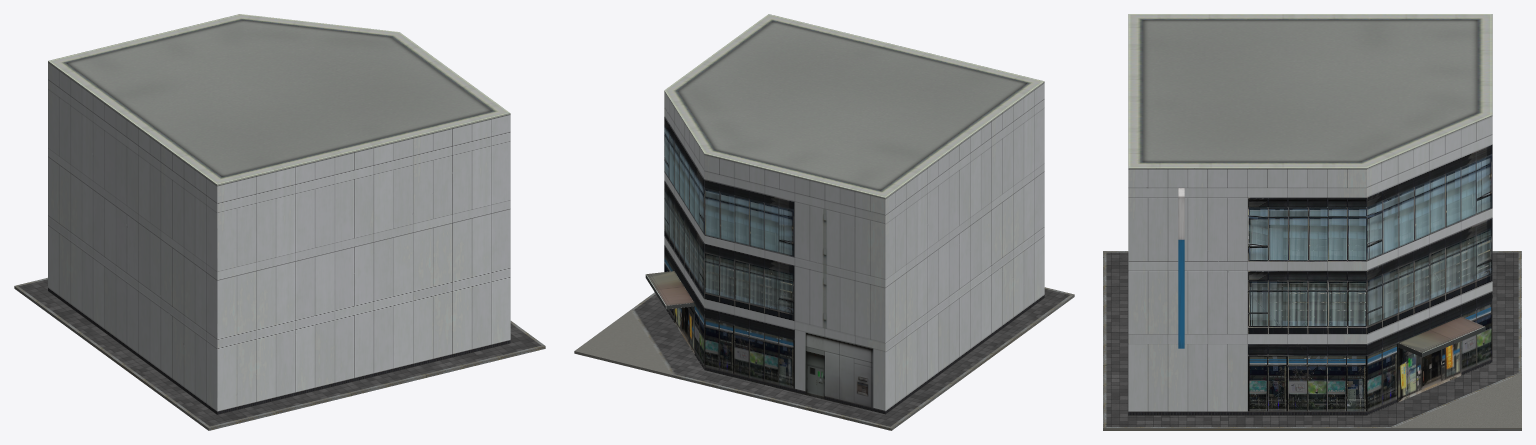
File: CityBank.fbx
The picture shows the model from 3 angles, left to right: view 1: azimuth 30°, elevation 25°; view 2: azimuth 150°, elevation 25°; view 3: azimuth 270°, elevation 25°; orthographic projection. The views are drawn at different scales.
Parts seen in each view (by area): view 1: 100_Citybank, 200_Site_Citybank; view 2: 100_Citybank, 200_Site_Citybank; view 3: 100_Citybank, 200_Site_Citybank.
Part boxes in pixels (<box>): 100_Citybank: <box>48,14,510,414</box>; 200_Site_Citybank: <box>14,277,545,430</box>; 100_Citybank: <box>645,14,1044,414</box>; 200_Site_Citybank: <box>574,287,1074,430</box>; 100_Citybank: <box>1128,14,1492,415</box>; 200_Site_Citybank: <box>1103,251,1521,430</box>.
Bounding box in the file's own units: 20 × 13.2 × 20.
